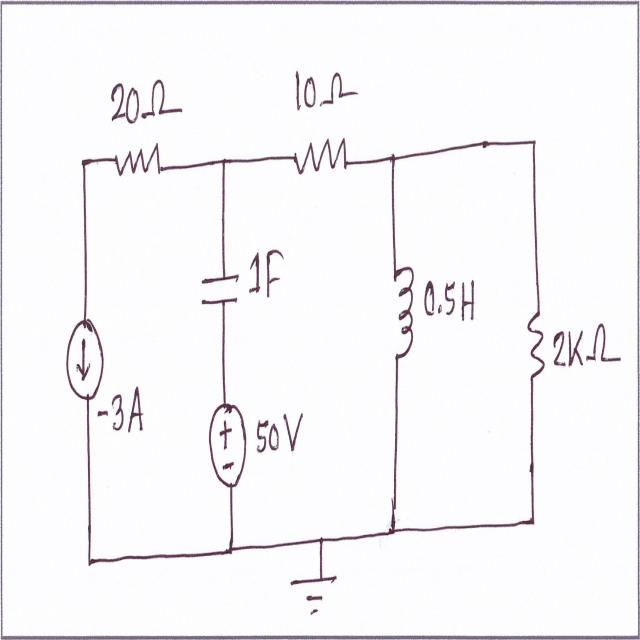capacitor: (197, 269, 246, 313)
current_source: (64, 314, 107, 407)
ground: (287, 570, 351, 622)
inductor: (387, 259, 418, 370)
resistor: (295, 119, 348, 187), (111, 139, 166, 197), (524, 306, 551, 398)
voltage_source: (205, 395, 250, 493)
